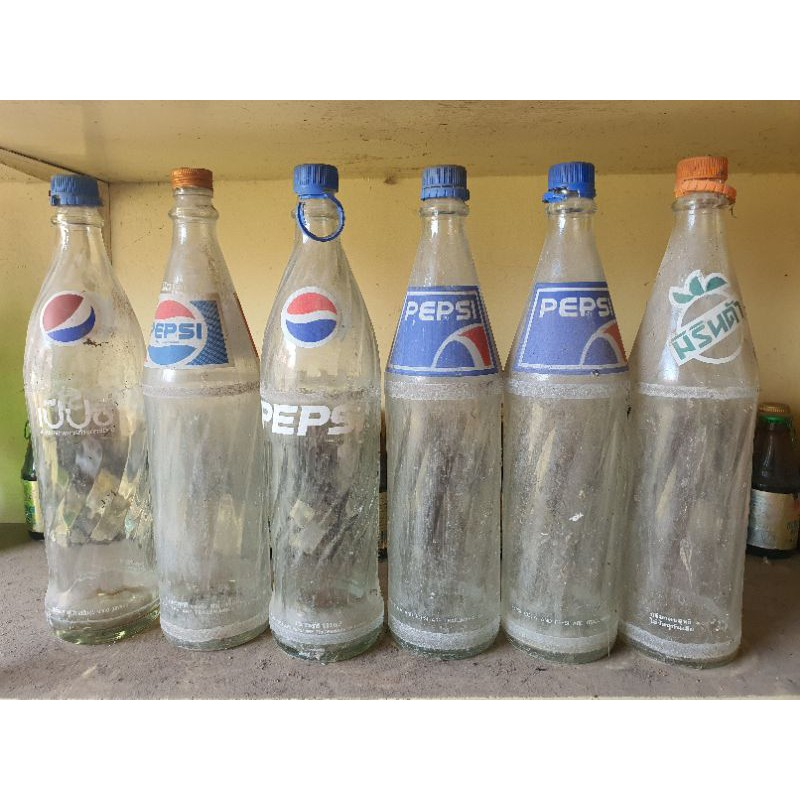glass_bottle: (15, 151, 767, 675)
